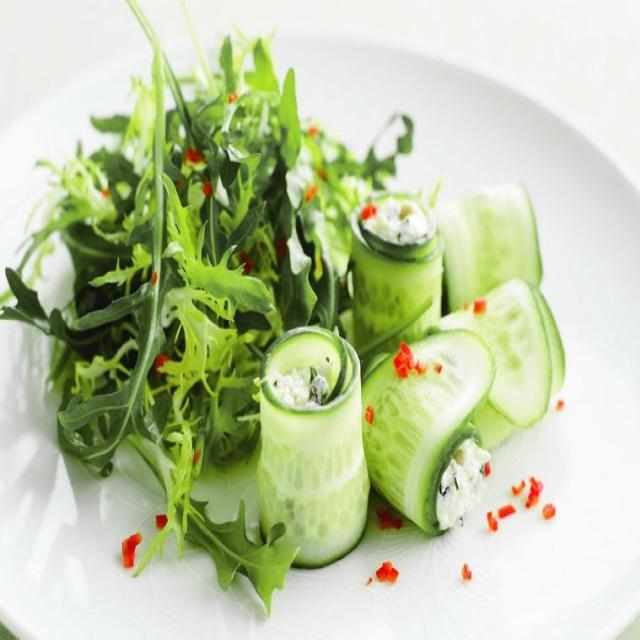Pickle: (258, 326, 370, 567), (362, 332, 495, 534), (438, 279, 551, 427), (351, 193, 442, 354), (436, 182, 542, 311), (533, 287, 565, 395)
